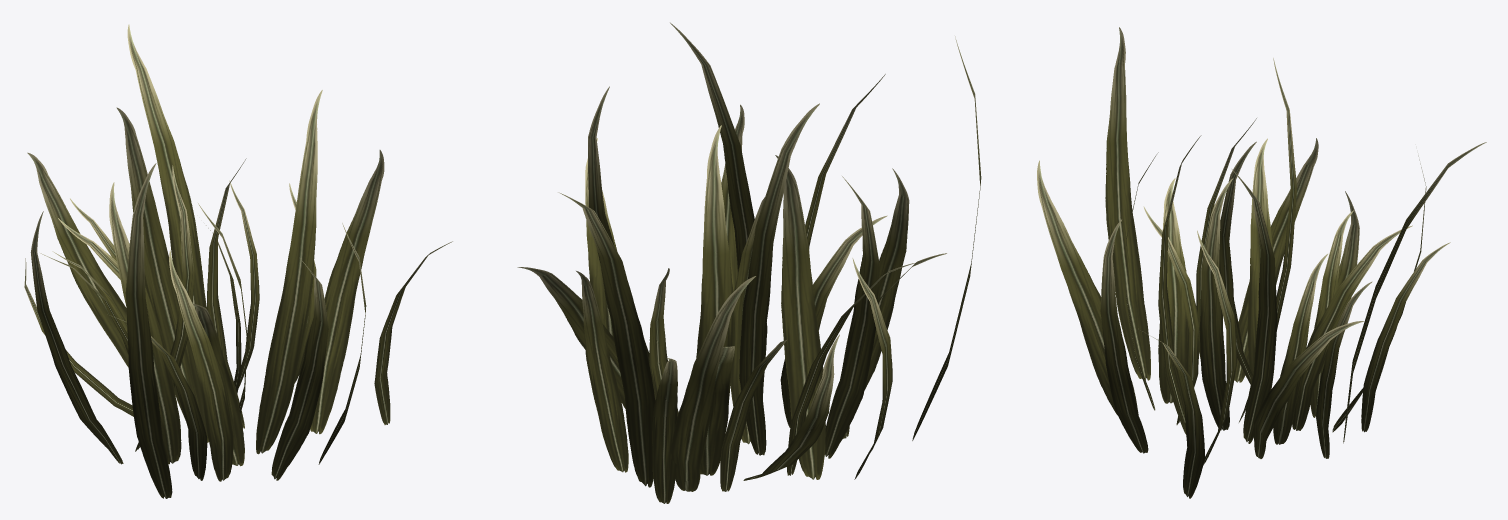
Rendered from Grass3.fbx.
The picture shows the model from 3 angles, left to right: view 1: azimuth 30°, elevation 25°; view 2: azimuth 150°, elevation 25°; view 3: azimuth 270°, elevation 25°; orthographic projection. The views are drawn at different scales.
Parts seen in each view (by area): view 1: Grass2; view 2: Grass2; view 3: Grass2.
Part boxes in pixels (box(x1,y1,x2,y2)): Grass2: box(24, 24, 452, 498); Grass2: box(517, 22, 981, 503); Grass2: box(1037, 27, 1486, 498).
Size of the model in its own units: 0.7451 by 0.6867 by 0.8518.
